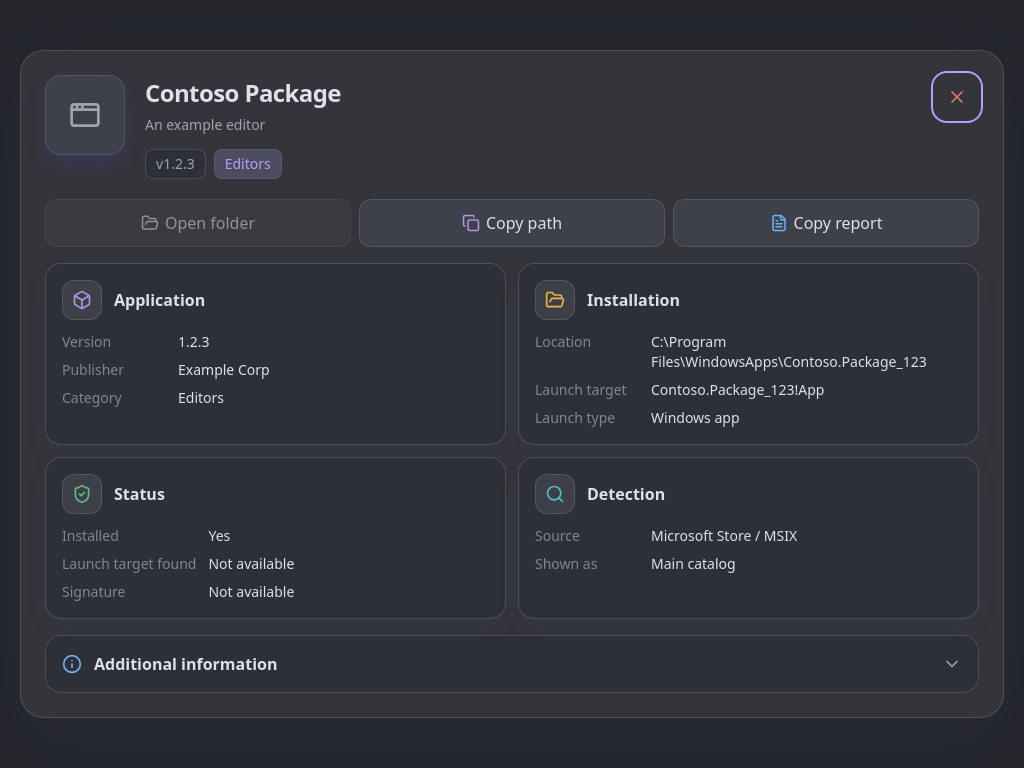
Scenario: AppInfoDialog › uses matched MSIX package metadata for installation status
Expected: the element "Status" is shown, [45, 457, 506, 619]
Expected: the text "Yes" is shown, [208, 526, 230, 545]
Click the button "Additional information" at (186, 664), box [46, 636, 978, 692]
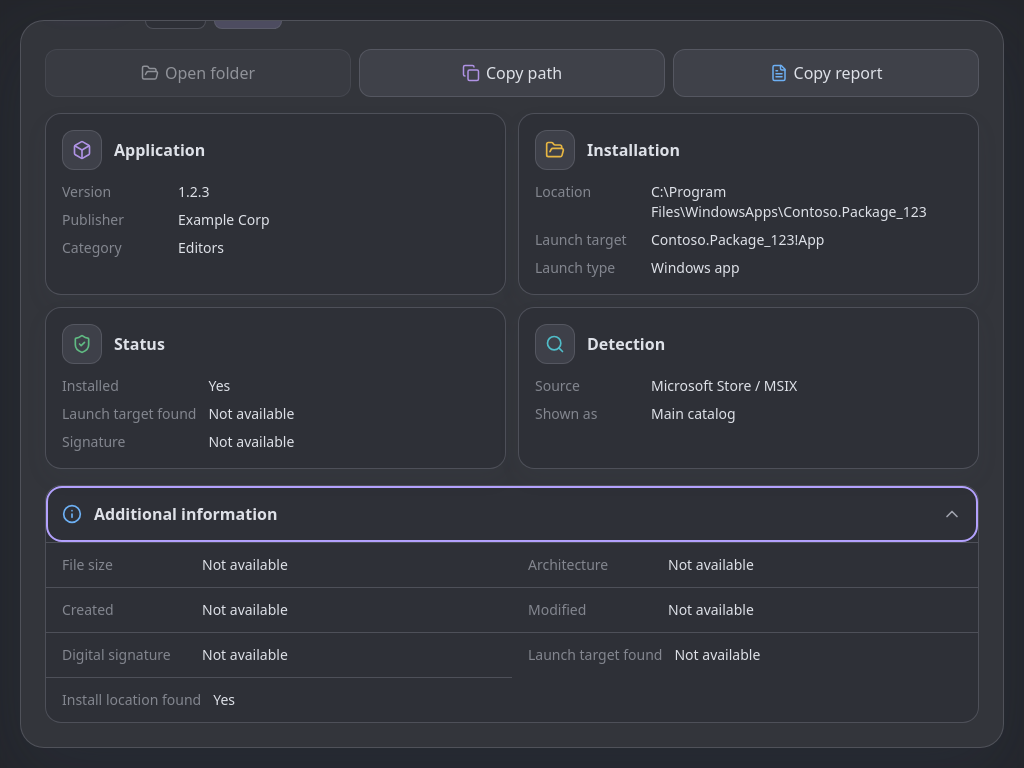
Expected: the text "Yes" next to "Install location found" is shown, [213, 690, 235, 709]
